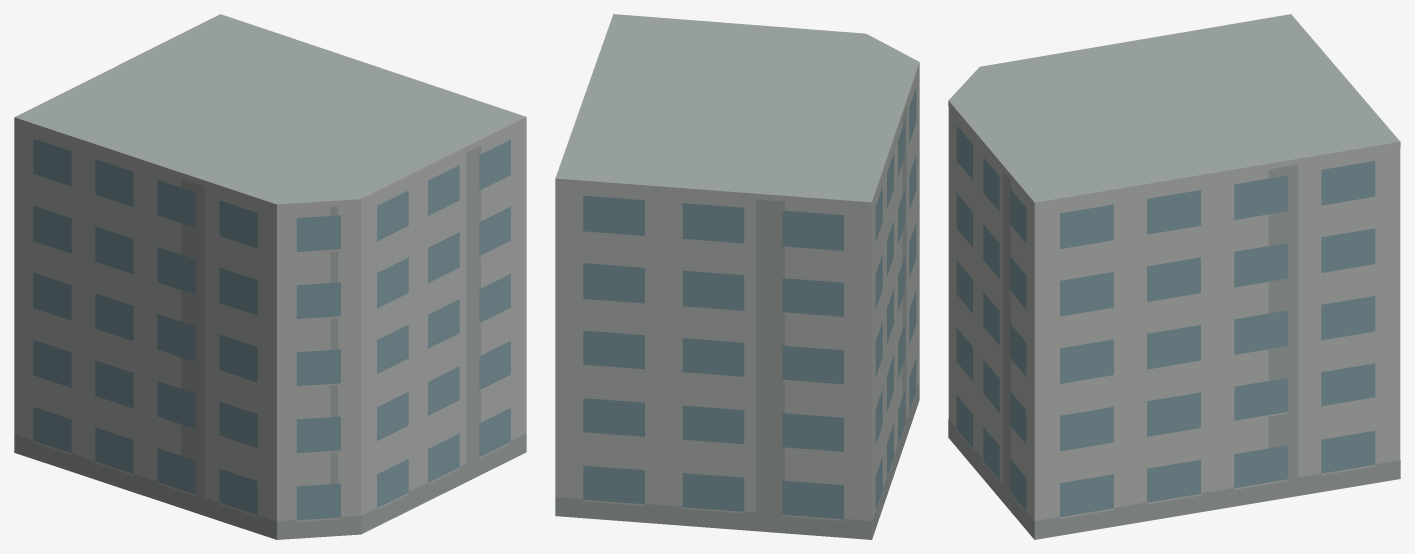
Rendered from survey-upis-32865604.glb.
3 views of the same model, side by side, from view 1: azimuth 30°, elevation 25°; view 2: azimuth 150°, elevation 25°; view 3: azimuth 270°, elevation 25° (orthographic).
Visible parts, largest first — view 1: survey-upis-32865604.tmp; view 2: survey-upis-32865604.tmp; view 3: survey-upis-32865604.tmp.
Part boxes in pixels (x1,y1,x2,y2): survey-upis-32865604.tmp: [14, 14, 526, 539]; survey-upis-32865604.tmp: [555, 14, 919, 539]; survey-upis-32865604.tmp: [948, 14, 1400, 539].
Size of the model in its own units: 16.93 by 14.1 by 17.14.
